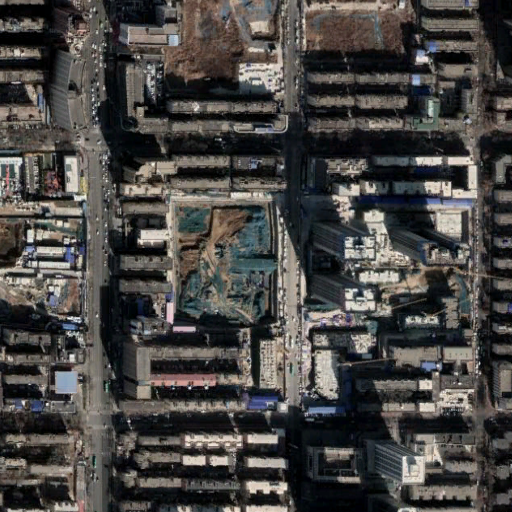cw: (173, 198, 276, 330)
